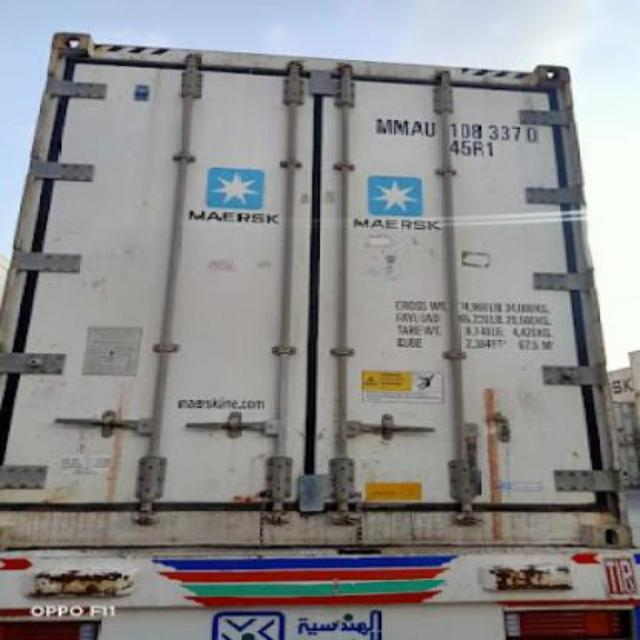0: (524, 122, 538, 144), (460, 120, 472, 136)
1: (444, 120, 460, 142)
3: (498, 121, 512, 142), (486, 120, 499, 142)
7: (511, 122, 524, 146)
8: (471, 116, 484, 140)
A: (410, 115, 422, 139)
M: (364, 112, 392, 136), (390, 111, 410, 141)
U: (424, 116, 440, 140)
